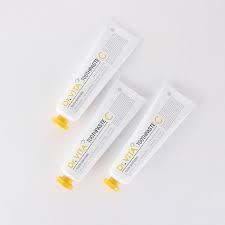toothpaste: (55, 74, 156, 190), (99, 81, 203, 193), (46, 24, 147, 128)
